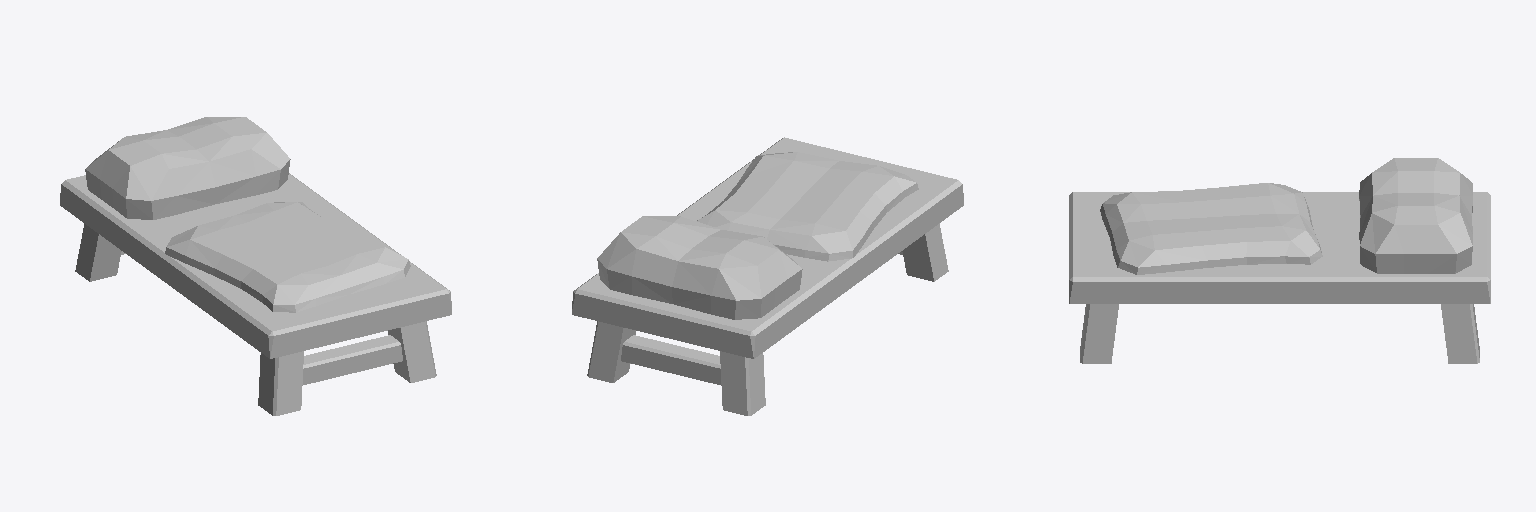
Rendered from bed_frame.obj.
The picture shows the model from 3 angles: view 1: azimuth 30°, elevation 25°; view 2: azimuth 150°, elevation 25°; view 3: azimuth 270°, elevation 25°; orthographic projection.
Visible parts, largest first — view 1: bed_frame; view 2: bed_frame; view 3: bed_frame.
Boxes of the visible parts, x1=… form: bed_frame: x1=60, y1=117, x2=451, y2=415; bed_frame: x1=572, y1=137, x2=963, y2=415; bed_frame: x1=1069, y1=158, x2=1490, y2=363.
Size of the model in its own units: 1.5 by 1.06 by 3.